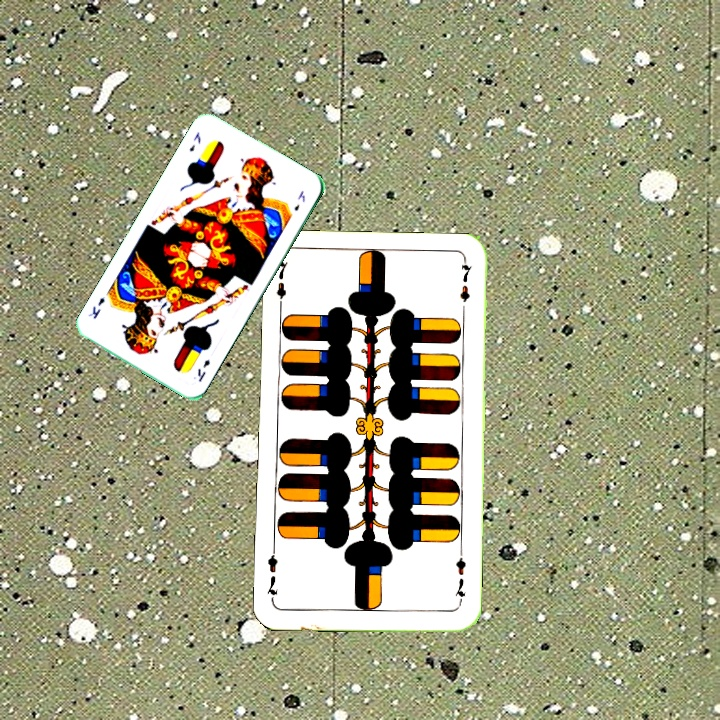E7: (272, 255, 291, 314), (450, 548, 468, 607)
EK: (193, 356, 213, 385), (185, 128, 204, 154)
